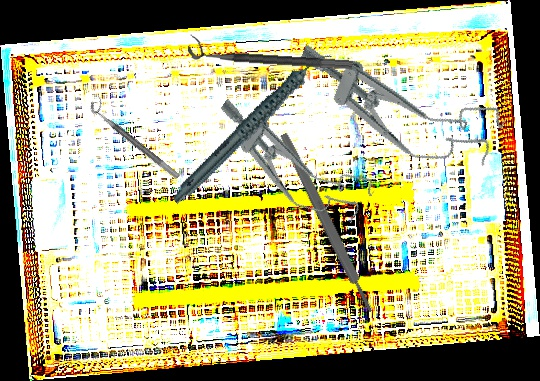Fixation Ring: (86, 94, 187, 181), (187, 34, 354, 71)
Handpiece: (148, 49, 357, 205)
Scalpel Handle: (278, 131, 376, 315)
Speculum: (282, 29, 509, 185), (198, 86, 380, 239)
